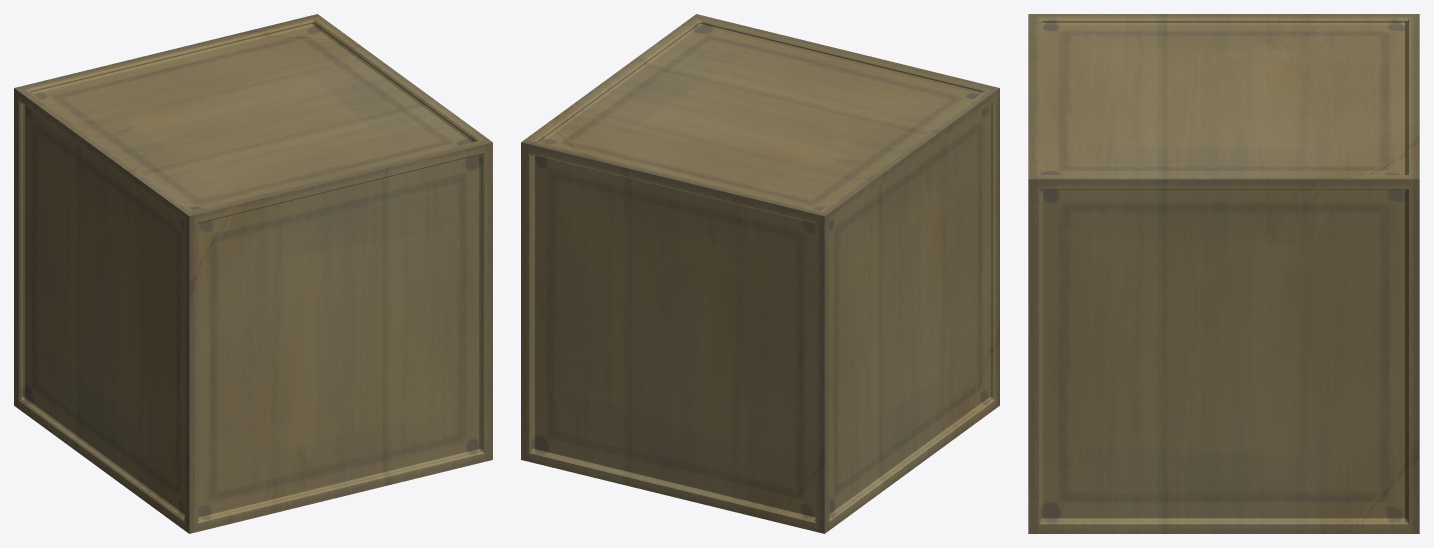
The picture shows the model from 3 angles, left to right: view 1: azimuth 30°, elevation 25°; view 2: azimuth 150°, elevation 25°; view 3: azimuth 270°, elevation 25°; orthographic projection. The views are drawn at different scales.
Visible parts, largest first — view 1: Cube; view 2: Cube; view 3: Cube.
Boxes of the visible parts, left/top/right/bottom form: Cube: left=14, top=14, right=492, bottom=533; Cube: left=521, top=14, right=999, bottom=533; Cube: left=1028, top=14, right=1419, bottom=533.
Size of the model in its own units: 200 by 200 by 200.
Materials: 1 (1 with a texture image).
